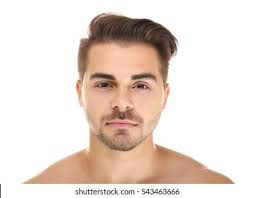s.white: (129, 91, 162, 115)
